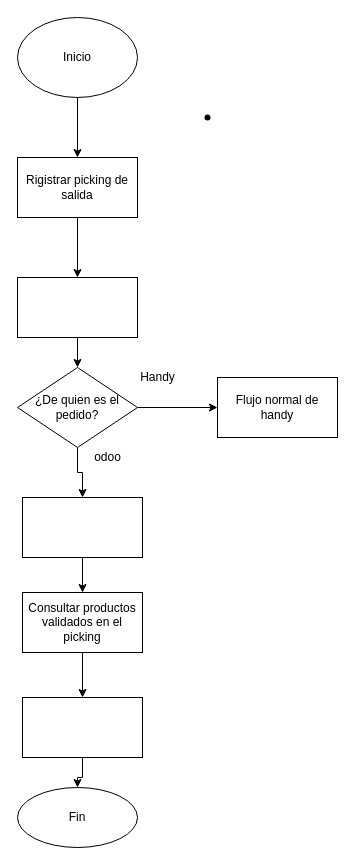
The diagram is 355 pixels wide and 865 high, and some of its shapes have lost their labels. The centre of each missing label's shape, as x and y in pixels:
Conectar API Handy: the point at 82,527
Sumar cantidad de productos nuevos: the point at 82,727
Validar de picking: the point at 77,307
